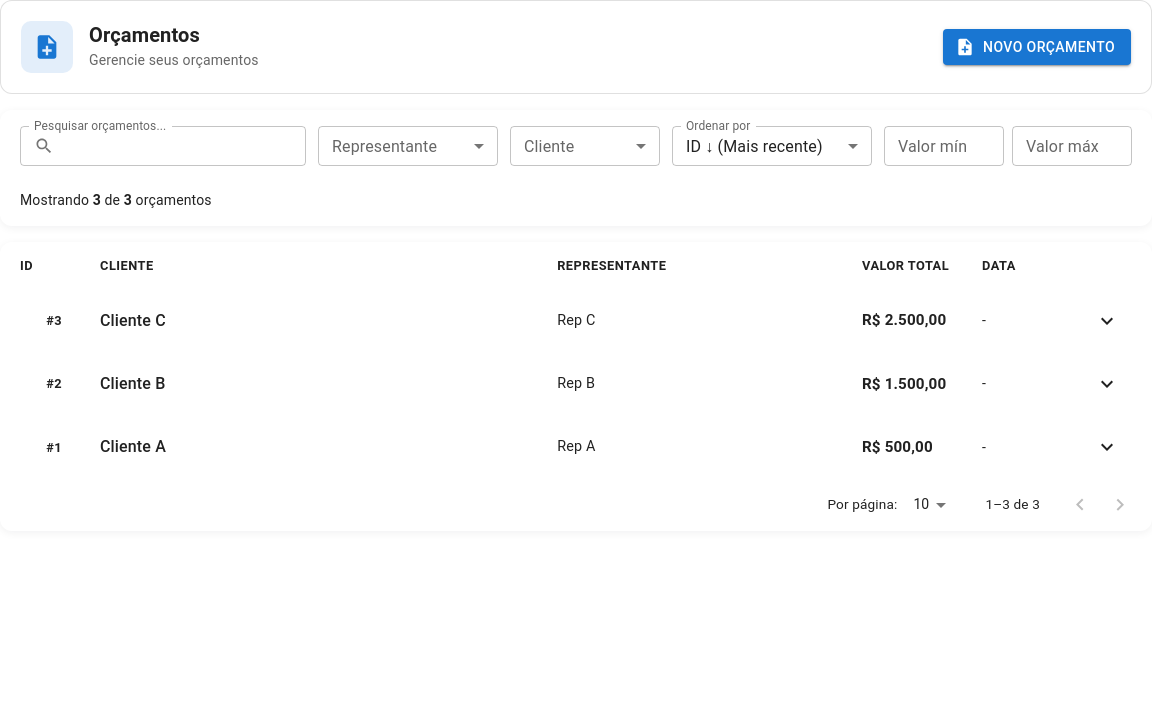
Scenario: Budgets — filtro de valor em centavos › só o mínimo (reais) filtra corretamente convertendo para centavos
In the number field labelled "Valor mín": coordinates (944, 146) x1=884 y1=126 x2=1004 y2=166, type "1000"
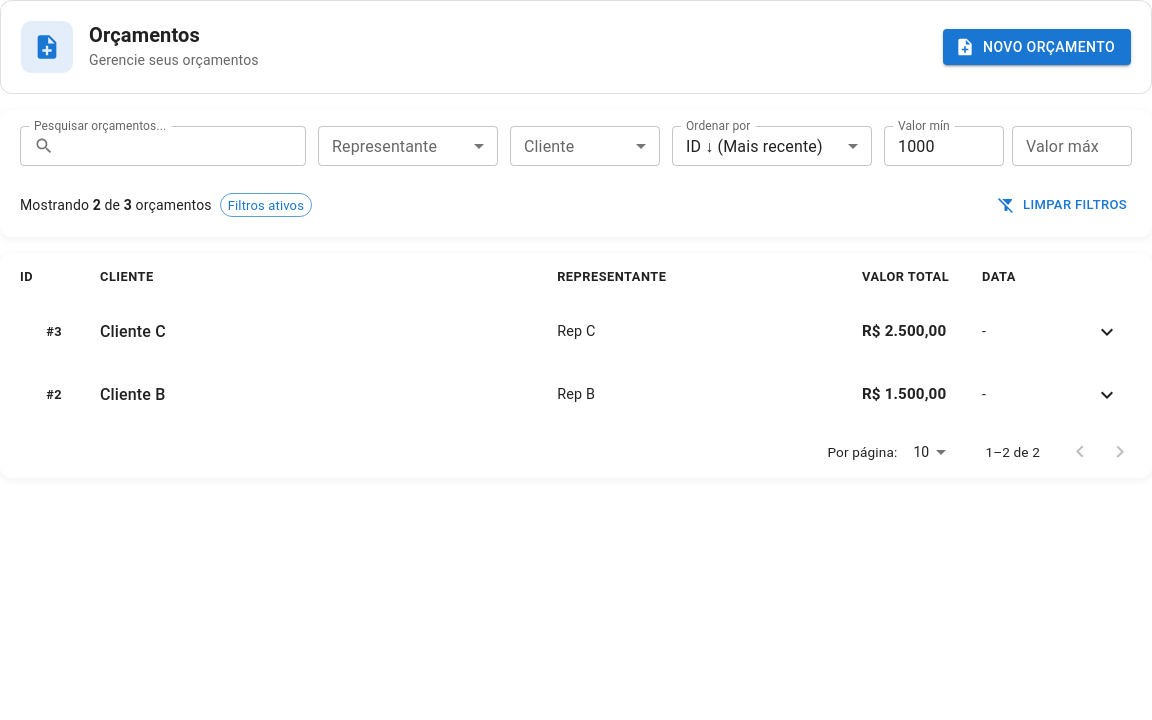
Check: the text "#2" is shown, box x1=46 y1=387 x2=62 y2=402
Check: the text "#1" is gone
